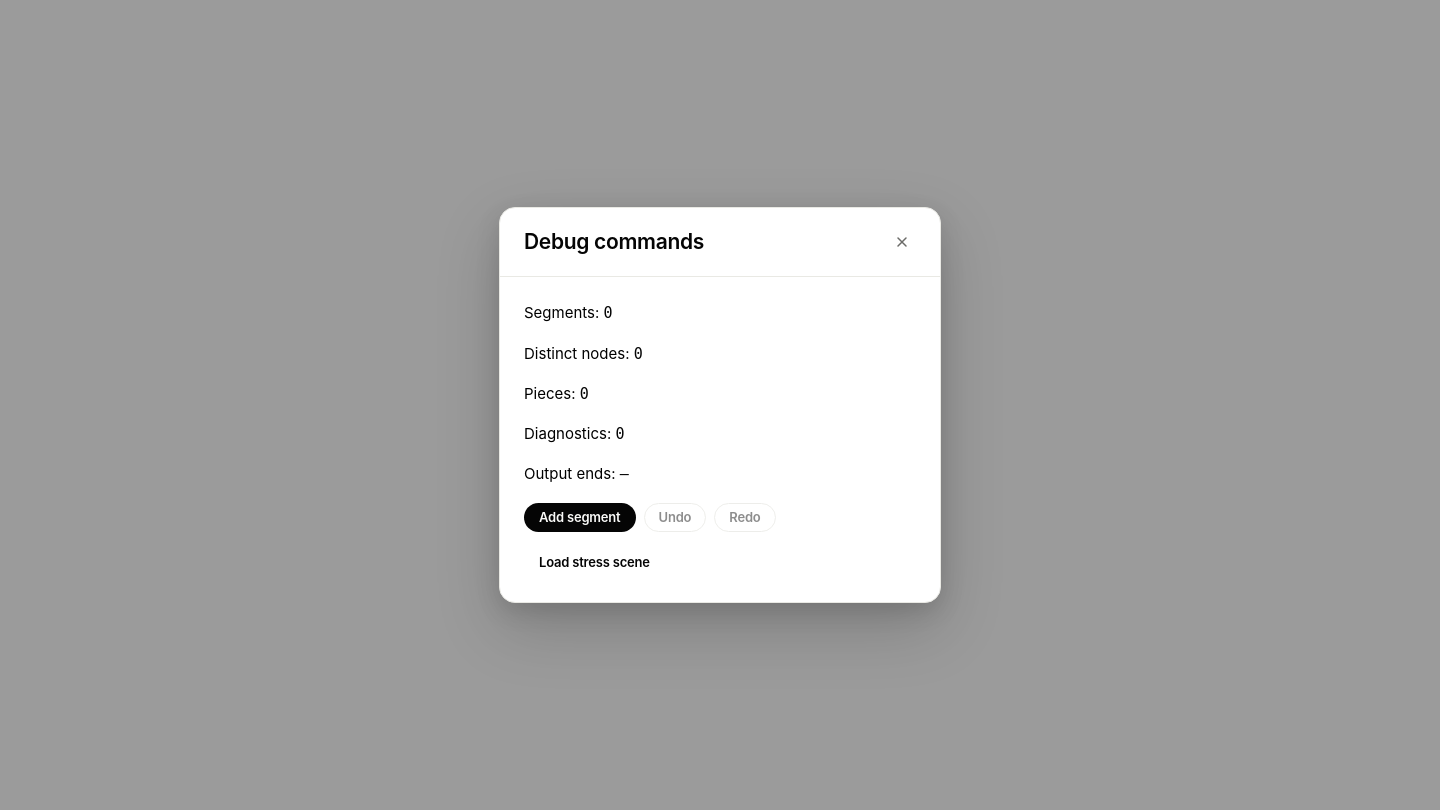
Test: DebugPalette › adds a segment and reflects it, then undoes via the palette
expect the element with test id "segment-count" reads "Segments: 0": met, box [524,303,613,322]
Step 1. Click the button "Add segment" → (580, 517), box [524,502,636,532]
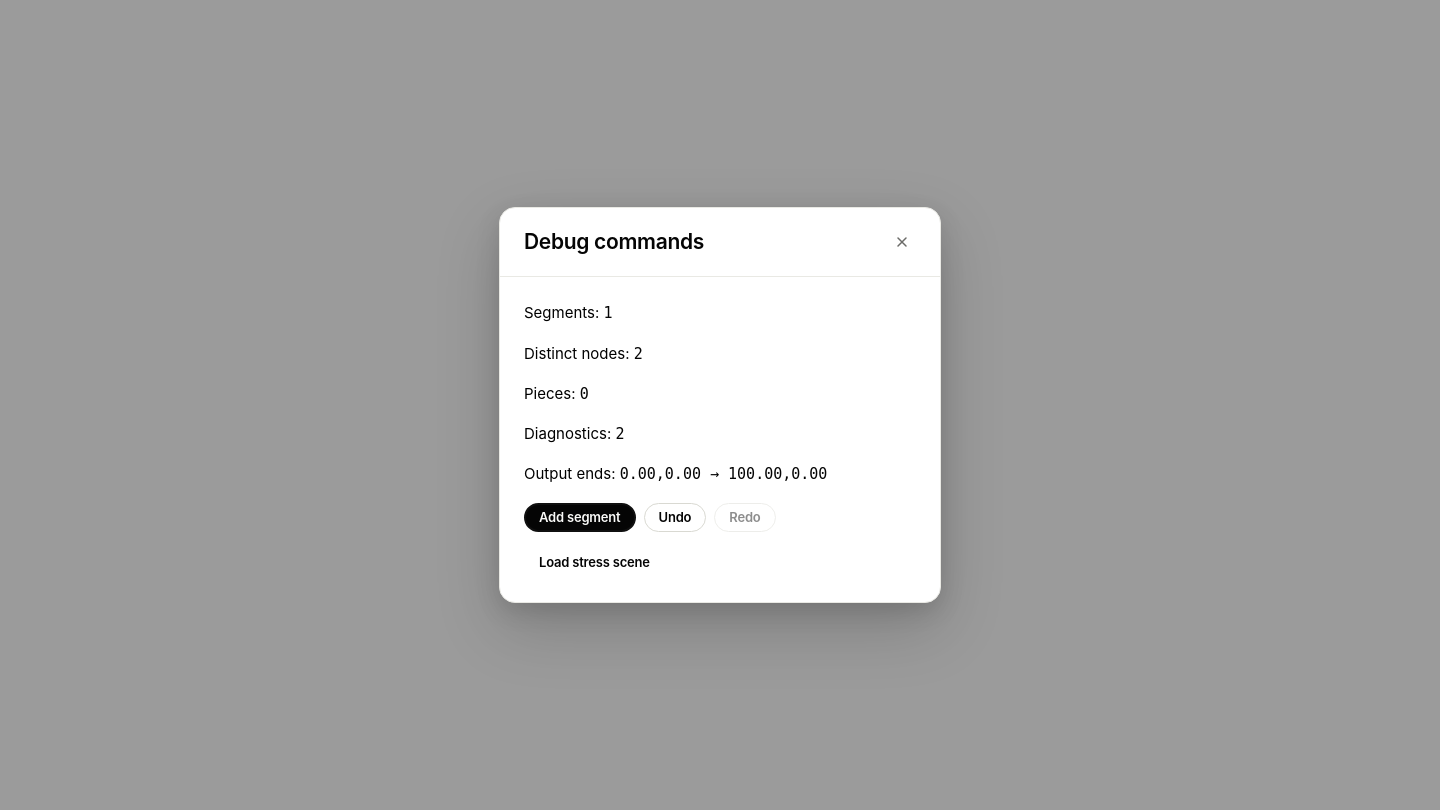
expect the element with test id "segment-count" reads "Segments: 1": met, box [524,303,613,322]
Step 2. Click the button "Undo" → (675, 517), box [644,502,706,532]
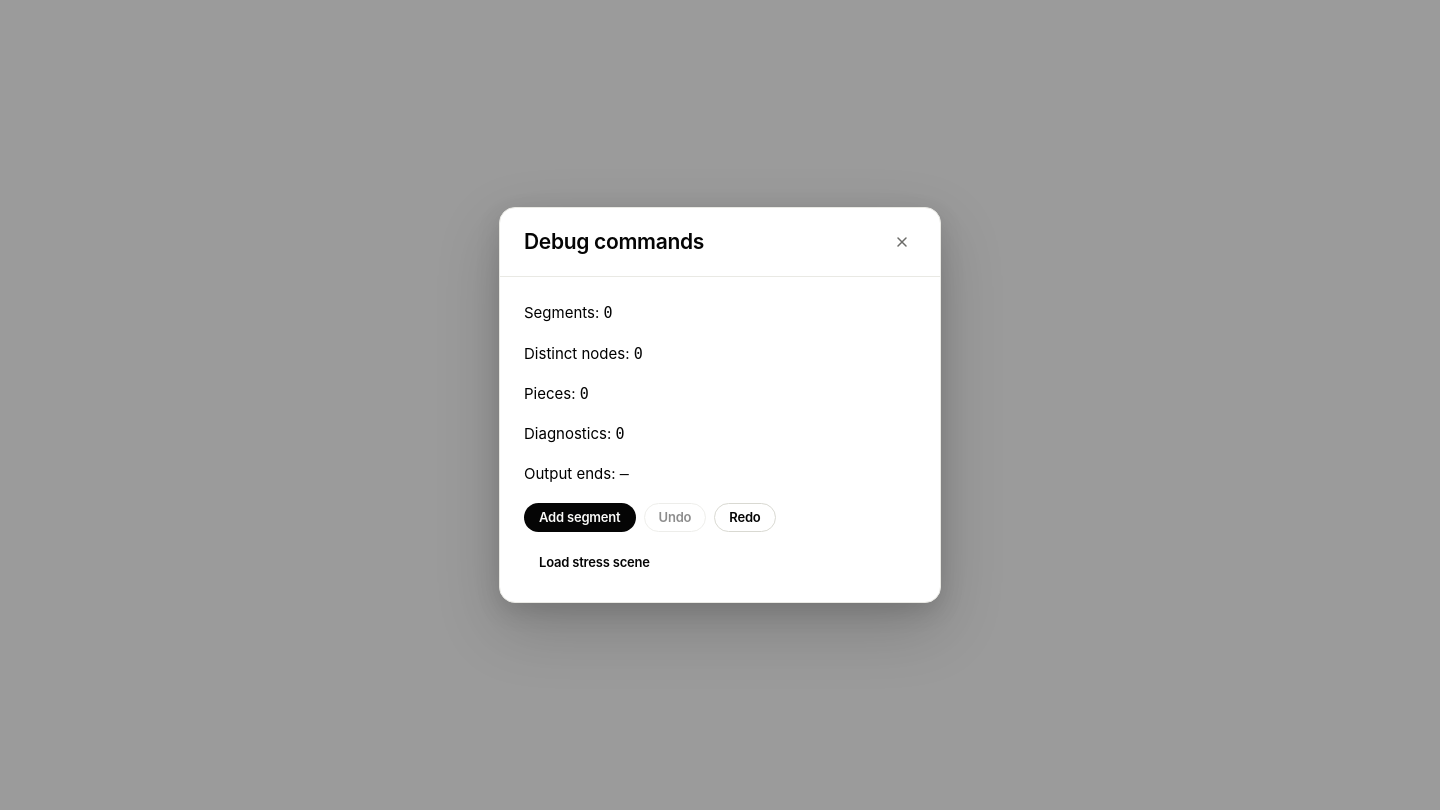
expect the element with test id "segment-count" reads "Segments: 0": met, box [524,303,613,322]
